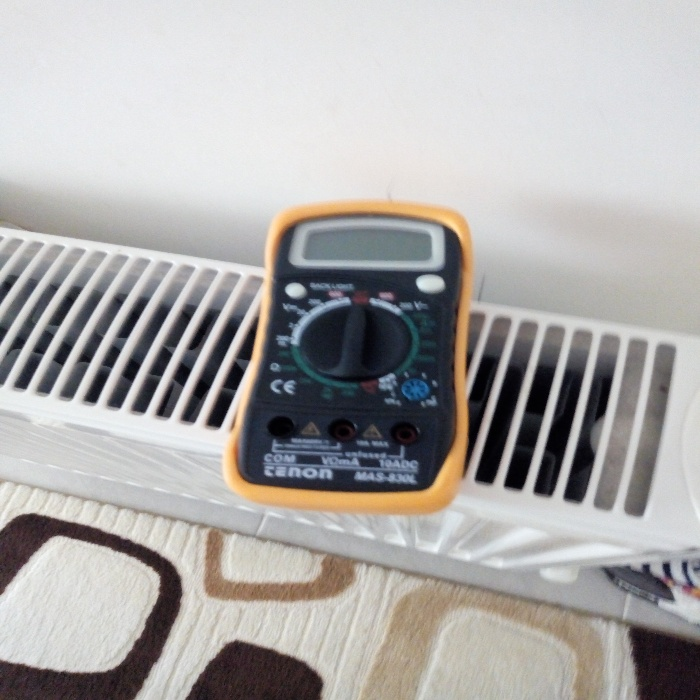multimetre: (218, 168, 491, 521)
